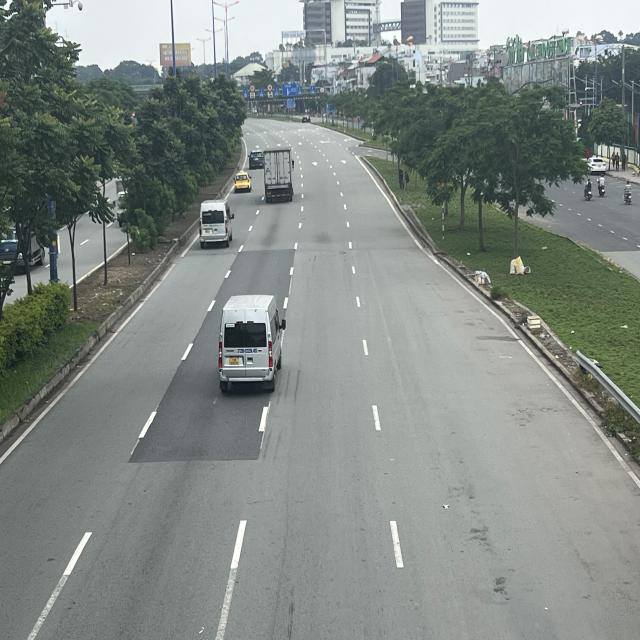car: (232, 172, 252, 195), (248, 150, 264, 170)
container: (263, 144, 296, 200)
van: (218, 293, 286, 391), (198, 199, 236, 248)
